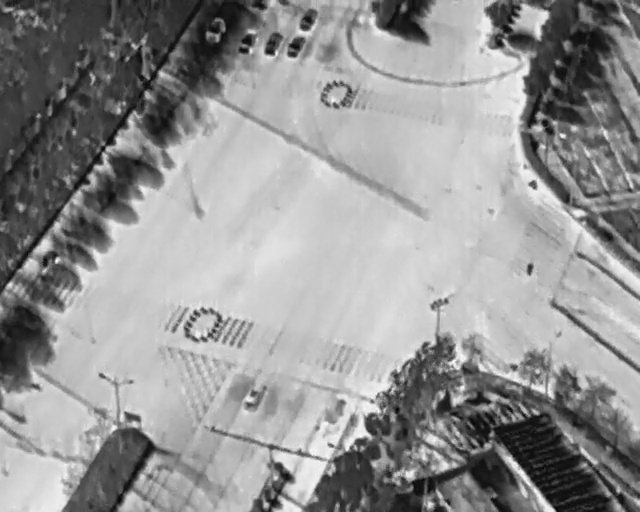Car: (202, 13, 229, 45), (241, 381, 268, 412), (296, 4, 322, 35), (261, 29, 285, 60), (283, 32, 308, 61), (237, 28, 259, 56)
Person: (526, 260, 534, 277)
